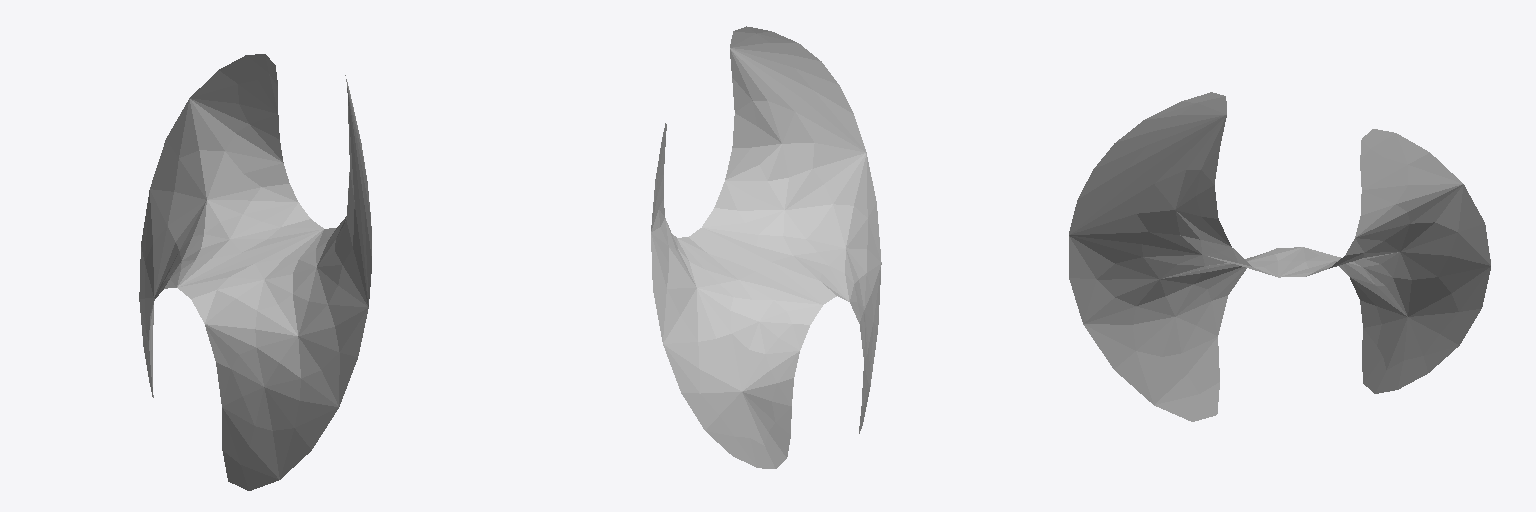
Rendered from jewel.obj.
3 renders of one model, left to right at view 1: azimuth 30°, elevation 25°; view 2: azimuth 150°, elevation 25°; view 3: azimuth 270°, elevation 25°, orthographic.
Parts seen in each view (by area): view 1: Plane; view 2: Plane; view 3: Plane.
Boxes of the visible parts, <box> form: Plane: <box>139,54,371,490</box>; Plane: <box>651,26,881,468</box>; Plane: <box>1069,92,1490,421</box>.
Bounding box in the file's own units: 1.98 × 5.36 × 5.38.